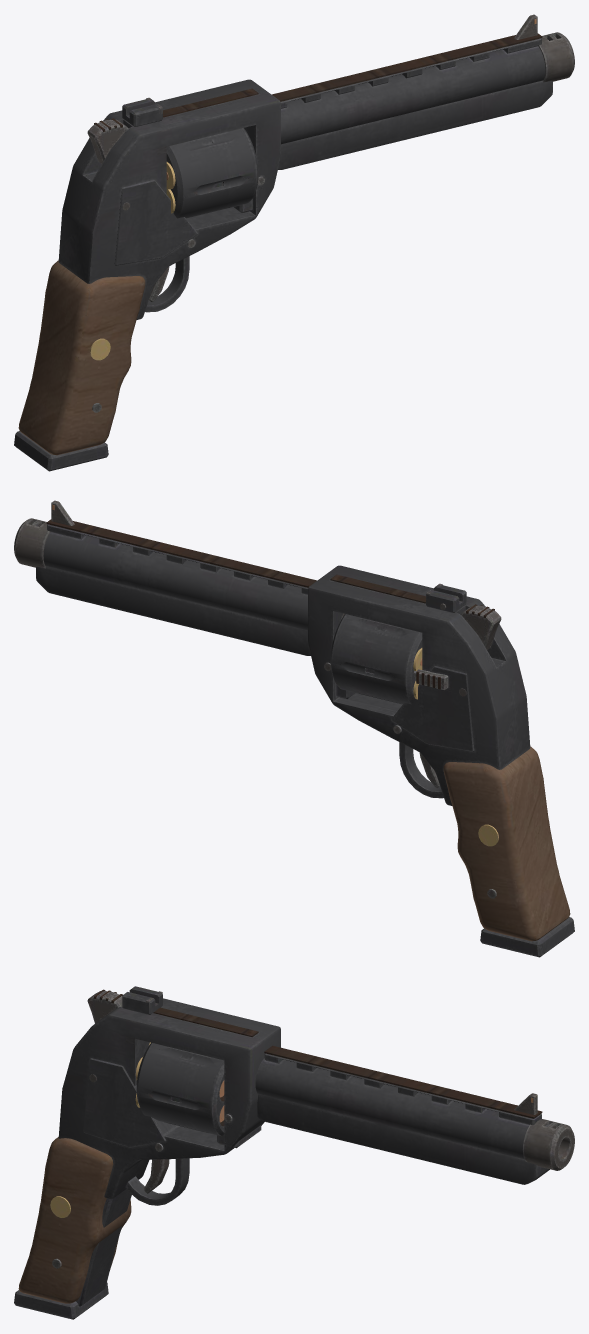
Rendered from weapon_hand_cannon.glb.
3 renders of one model, top to bottom at view 1: azimuth 30°, elevation 25°; view 2: azimuth 150°, elevation 25°; view 3: azimuth 330°, elevation 25°, orthographic.
Parts seen in each view (by area): view 1: Body, DefaultBarrel, Cylinder, DefaultMuzzle, IronSights; view 2: Body, DefaultBarrel, Cylinder, DefaultMuzzle, IronSights; view 3: Body, DefaultBarrel, Cylinder, DefaultMuzzle, IronSights.
Part boxes in pixels (box(x1,y1,x2,y2)): Body: box(14, 79, 280, 471); DefaultBarrel: box(272, 18, 552, 169); Cylinder: box(166, 128, 258, 218); DefaultMuzzle: box(538, 32, 574, 82); IronSights: box(122, 14, 537, 126); Body: box(308, 565, 574, 957); DefaultBarrel: box(36, 504, 316, 655); Cylinder: box(330, 614, 422, 704); DefaultMuzzle: box(14, 518, 50, 568); IronSights: box(51, 500, 466, 612); Body: box(14, 989, 280, 1319); DefaultBarrel: box(255, 1045, 549, 1184); Cylinder: box(136, 1042, 224, 1136); DefaultMuzzle: box(522, 1119, 574, 1170); IronSights: box(122, 986, 537, 1114).
Size of the model in its own units: 0.2929 by 0.1713 by 0.0432.
Materials: 1 (1 with a texture image).
